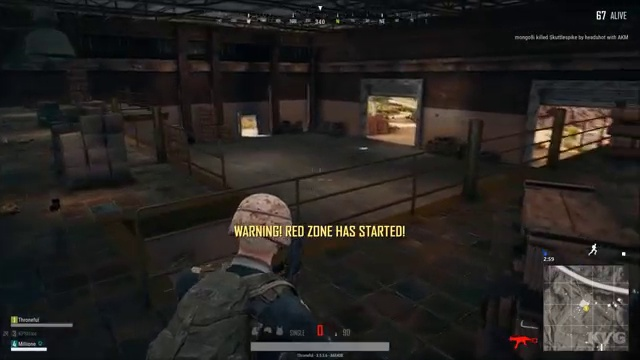Player: (170, 179, 325, 316)
